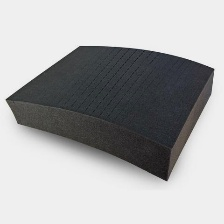foam_box: (3, 41, 217, 184)
